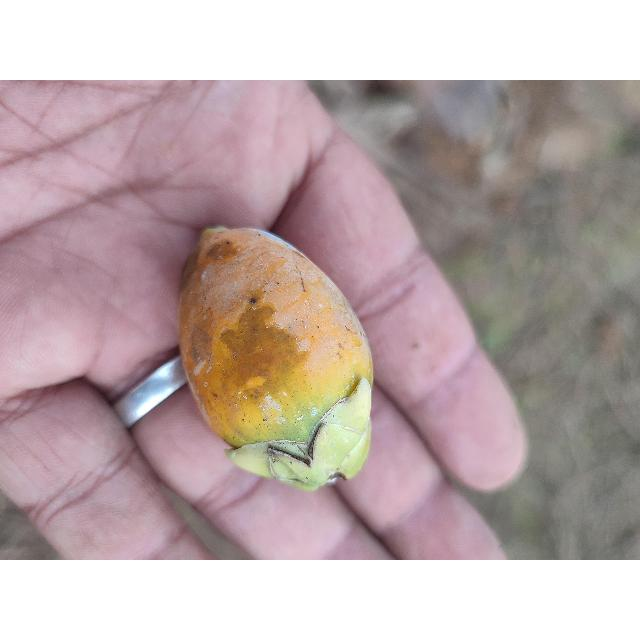good: (177, 227, 375, 492)
